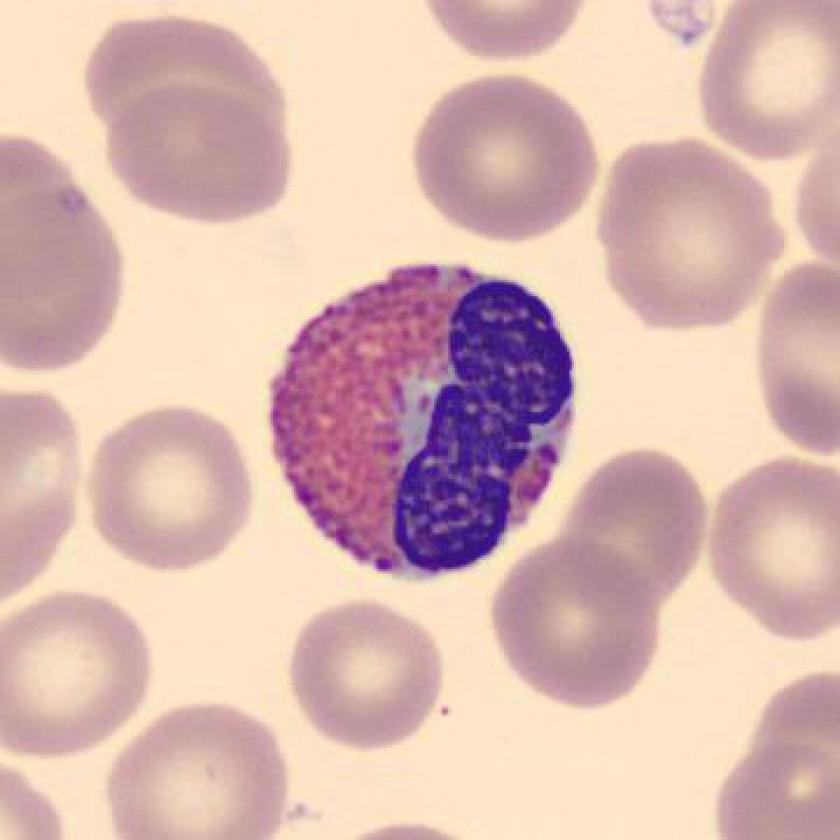eosinophil: (265, 246, 594, 598)
